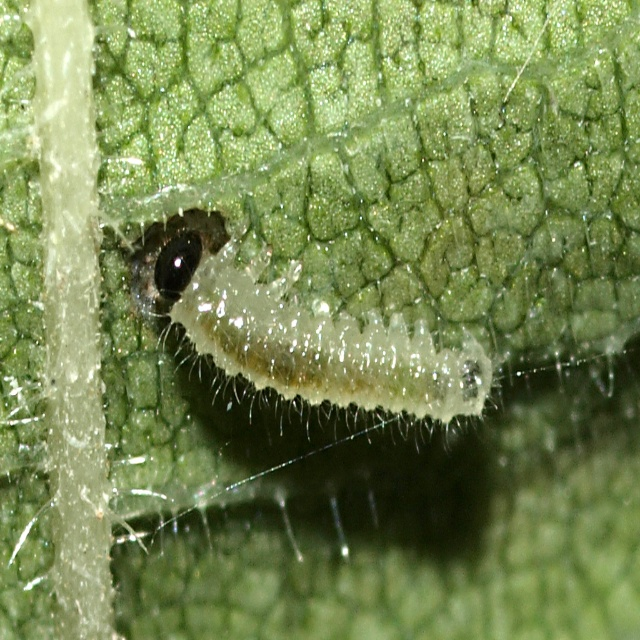Caterpillar: (138, 229, 502, 457)
